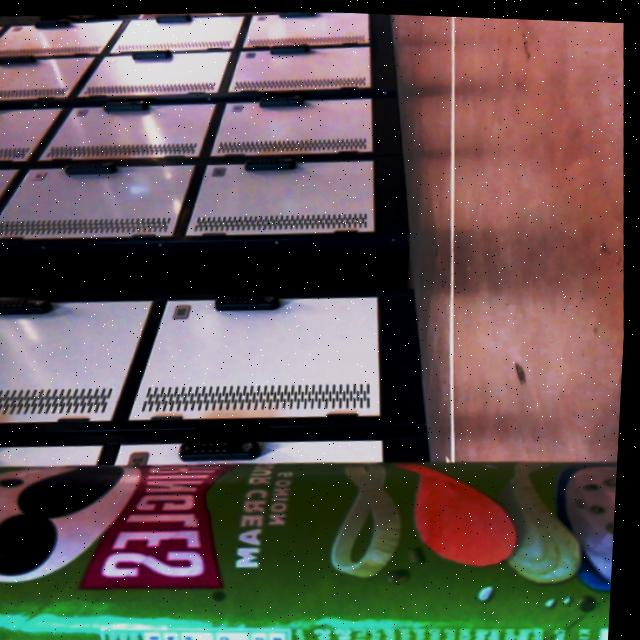greenpringles: (0, 404, 624, 640)
